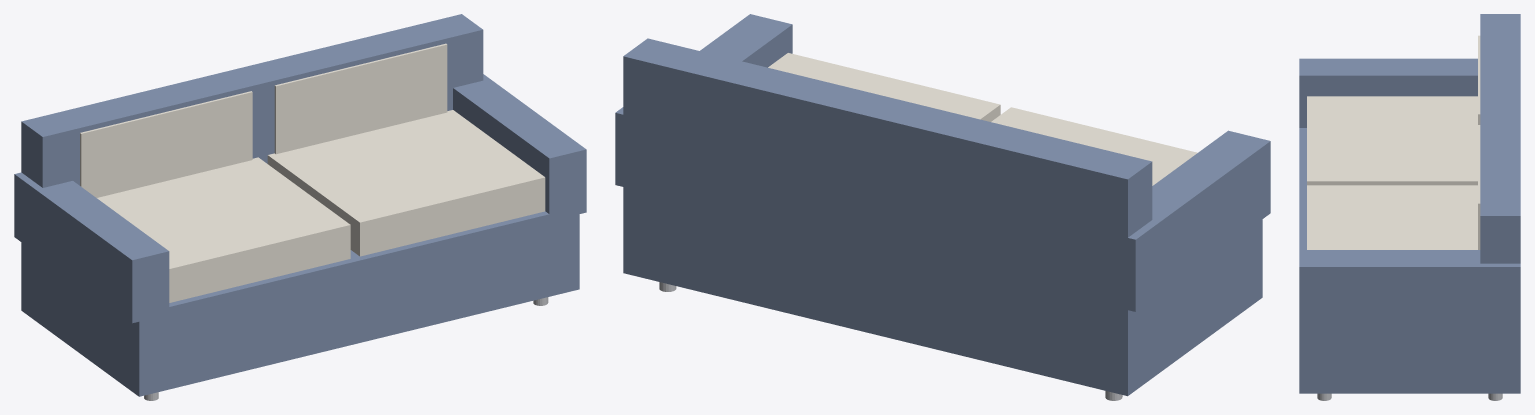
Rendered from sofa.glb.
3 renders of one model, left to right at view 1: azimuth 30°, elevation 25°; view 2: azimuth 150°, elevation 25°; view 3: azimuth 270°, elevation 25°, orthographic. The views are drawn at different scales.
Visible parts, largest first — view 1: part_0, part_1; view 2: part_0, part_1; view 3: part_0, part_1, part_2.
Part boxes in pixels (x1,y1,x2,y2): part_0: (14, 14, 586, 396); part_1: (80, 43, 545, 302); part_0: (615, 14, 1270, 396); part_1: (768, 53, 1197, 185); part_0: (1299, 14, 1520, 393); part_1: (1307, 35, 1480, 249); part_2: (1317, 393, 1502, 400).
Bounding box in the file's own units: 1.96 × 0.85 × 0.88.
